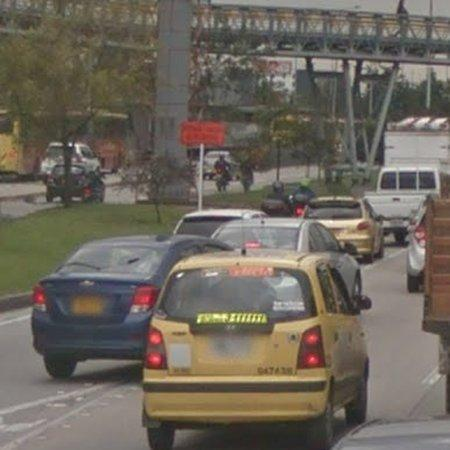taxis: (143, 253, 370, 450)
